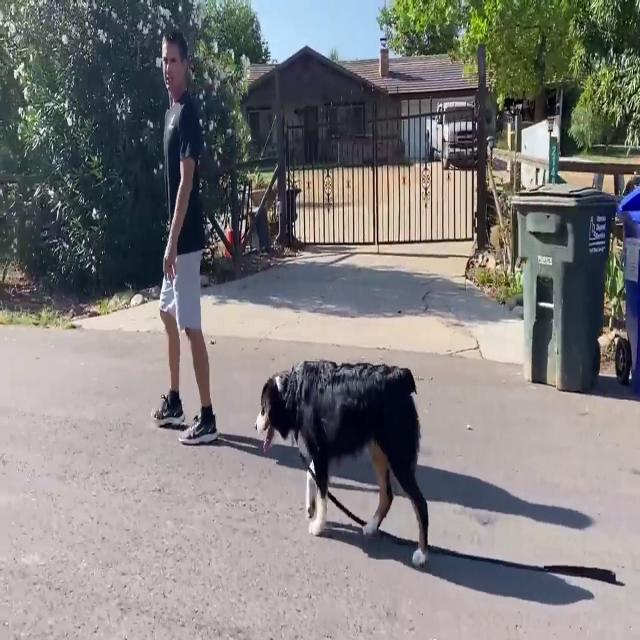Unleashed_Dog: (172, 252, 430, 568)
